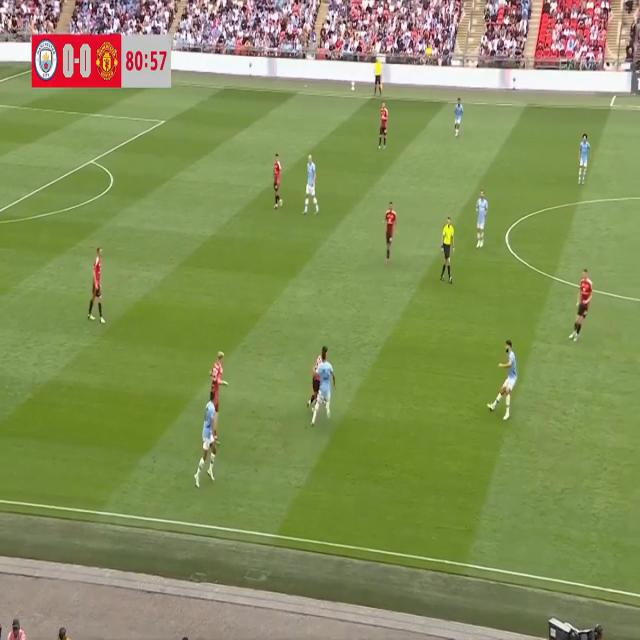ball: (324, 384, 338, 411)
players: (488, 332, 523, 428), (191, 394, 222, 492), (566, 264, 596, 356), (203, 346, 228, 453), (308, 352, 334, 431), (85, 244, 108, 327), (380, 198, 404, 270), (307, 339, 328, 418), (300, 149, 323, 219), (572, 126, 596, 186), (268, 149, 289, 211), (474, 186, 492, 254), (372, 97, 390, 159), (451, 89, 466, 146)
refree: (435, 212, 461, 285), (369, 48, 385, 101)
